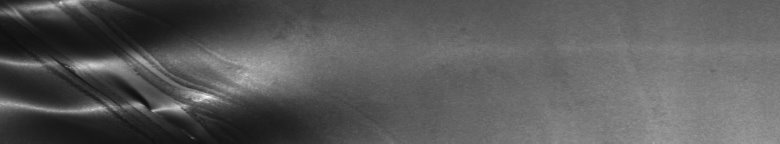ke: (4, 4, 282, 130)
